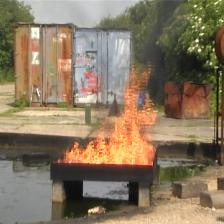fire: (55, 63, 158, 166)
